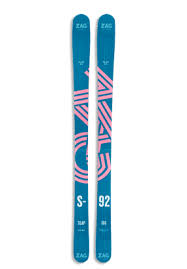skis: (71, 13, 117, 264)
